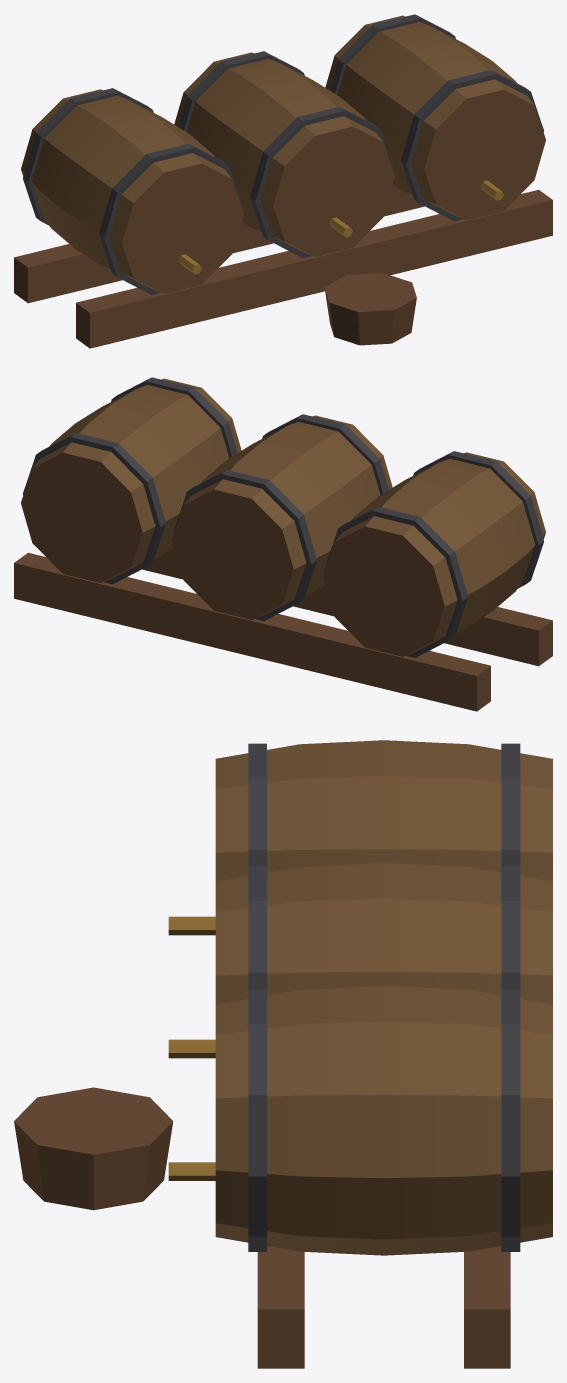
File: BarrelRack.fbx
3 views of the same model, one above another, from view 1: azimuth 30°, elevation 25°; view 2: azimuth 150°, elevation 25°; view 3: azimuth 270°, elevation 25° (orthographic). The views are drawn at different scales.
Visible parts, largest first — view 1: BarrelRack; view 2: BarrelRack; view 3: BarrelRack.
Part boxes in pixels (<box>): BarrelRack: <box>14,14,552,348</box>; BarrelRack: <box>14,377,552,711</box>; BarrelRack: <box>14,740,552,1368</box>.
Bounding box in the file's own units: 1.9 × 0.7058 × 1.15.
